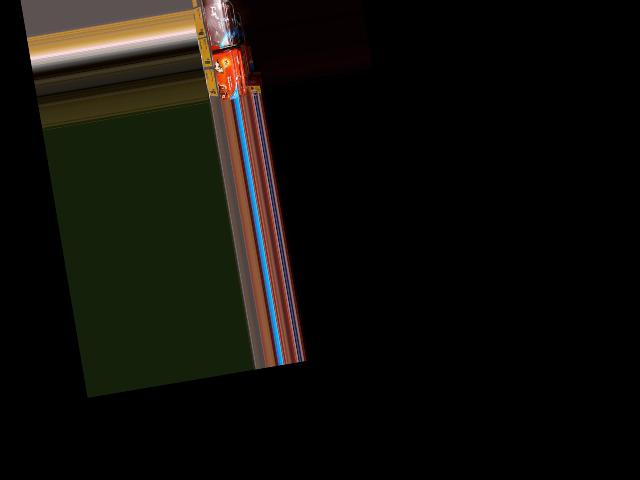chocolate: (198, 0, 231, 47)
